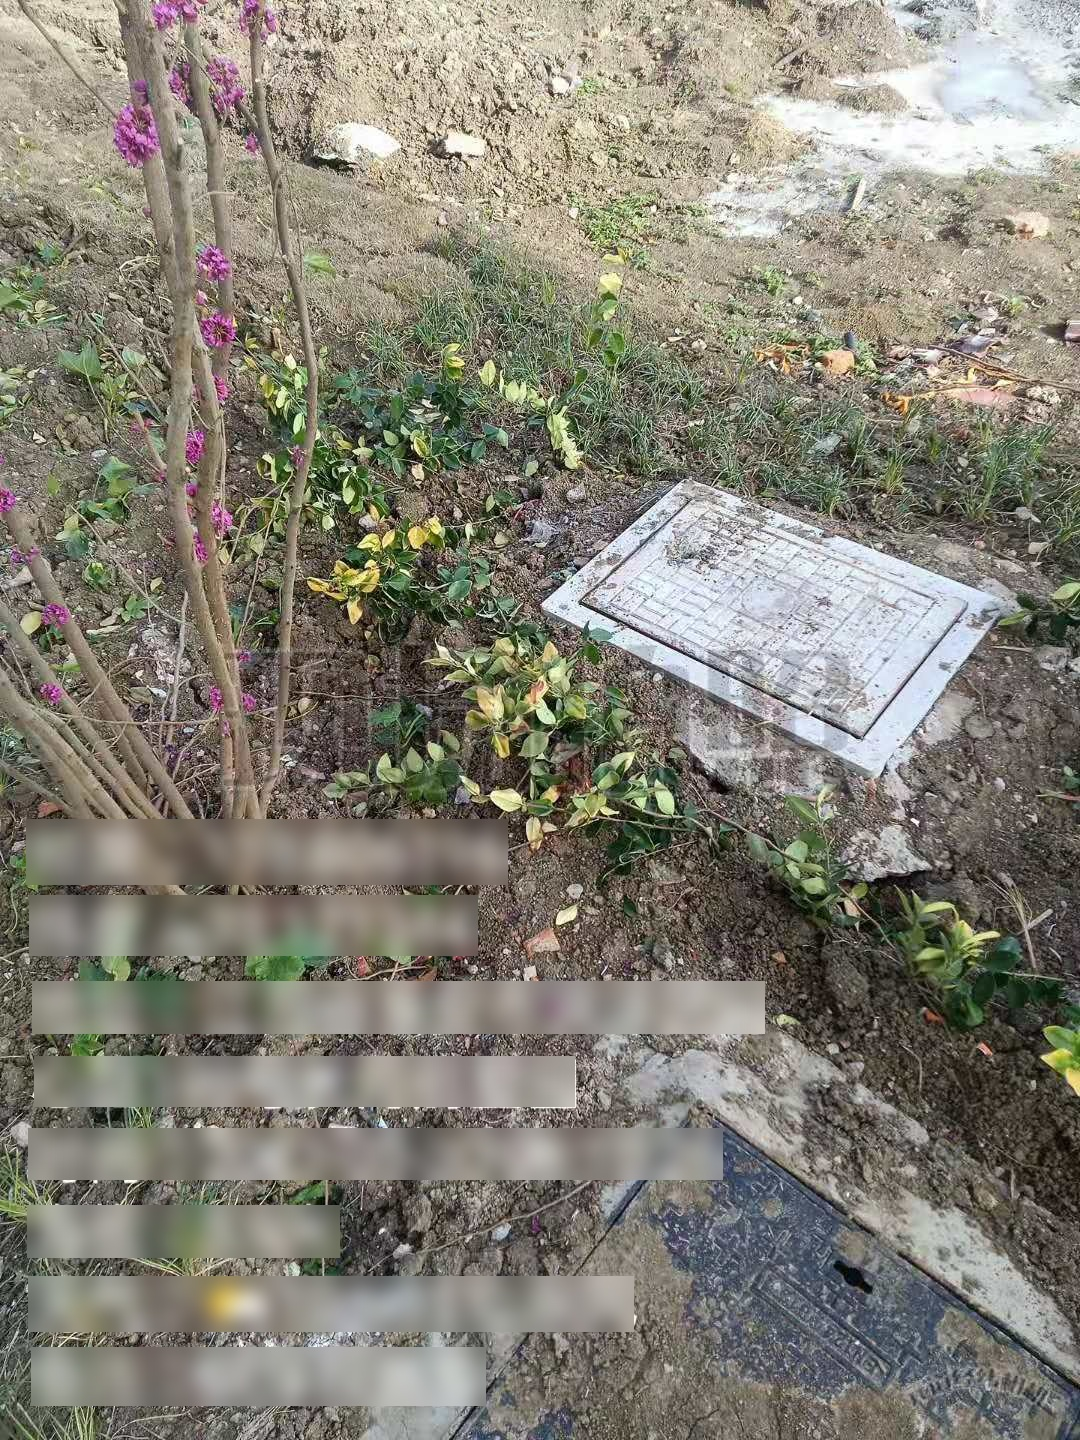good: (535, 478, 999, 774)
